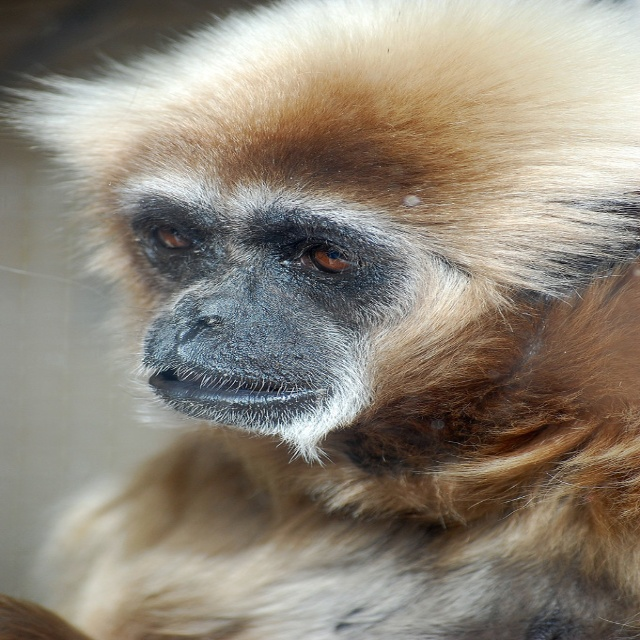Monkey: (0, 13, 640, 640)
